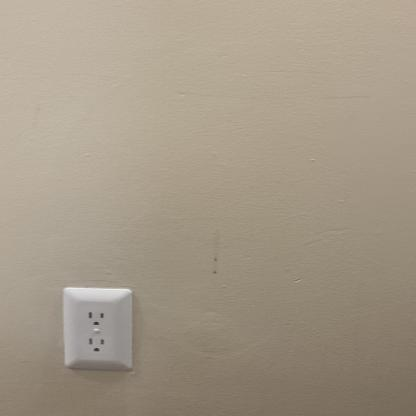OUTLET: (60, 286, 137, 374)
